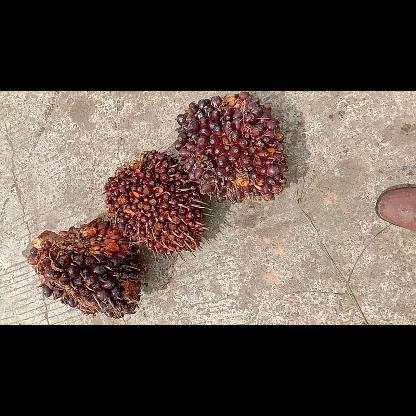Kurang masak: (174, 90, 290, 202), (104, 150, 208, 250)
TBS masak: (25, 219, 143, 318)
